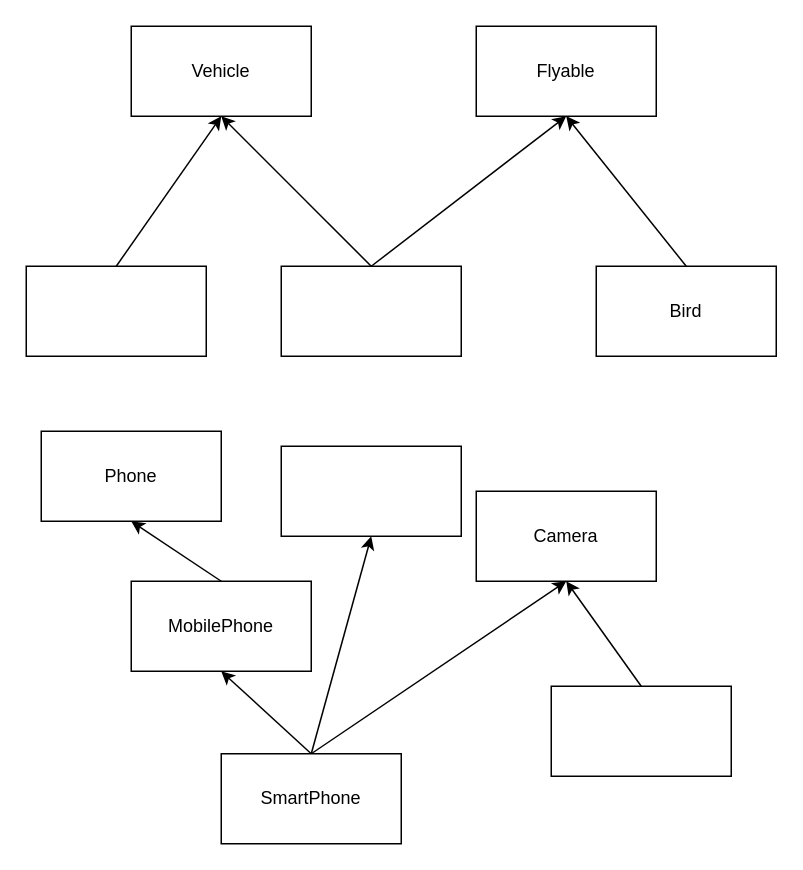
Some shapes in this 803 by 870 pixel diagram are drawn without their labels. Each missing label, with the centre of its shape:
"Aeroplane" goes at point 370,310.
"Car" goes at point 115,310.
"DSLRCamera" goes at point 640,730.
"MusicPlayer" goes at point 370,490.
